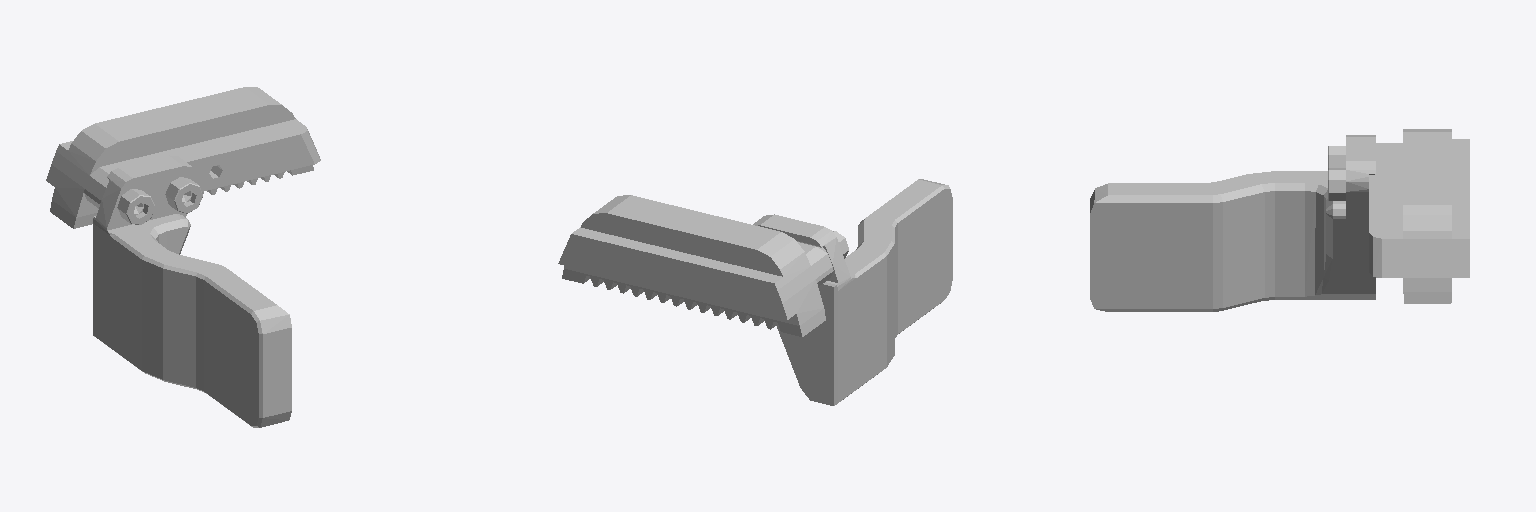
Rendered from FingerB.obj.
3 renders of one model, left to right at view 1: azimuth 30°, elevation 25°; view 2: azimuth 150°, elevation 25°; view 3: azimuth 270°, elevation 25°, orthographic.
Parts seen in each view (by area): view 1: FingerB; view 2: FingerB; view 3: FingerB.
Boxes of the visible parts, x1,y1,x2,y2 form: FingerB: [46, 87, 320, 427]; FingerB: [558, 179, 952, 405]; FingerB: [1090, 129, 1469, 311].
Size of the model in its own units: 4.52 by 3.14 by 6.19.